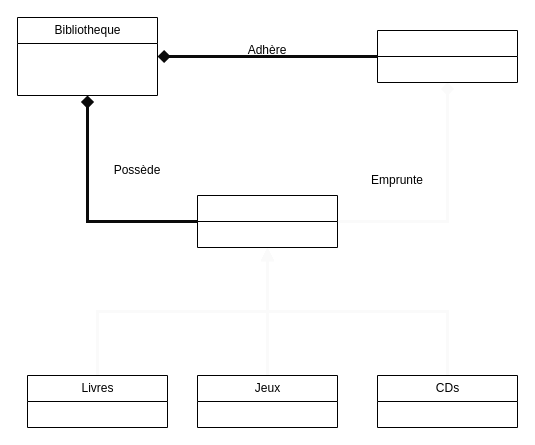
Image size: 535x445. Some labels were removed from this diagram. Here are the shapes that lost their labels. From the top down, the box of each, then its label:
(376, 30, 518, 82): Adherent
(196, 194, 338, 248): Ressources
